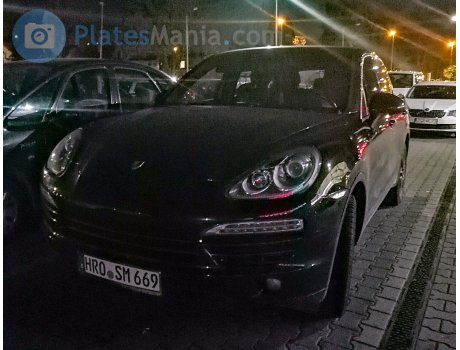License Plates: (83, 261, 158, 284)
